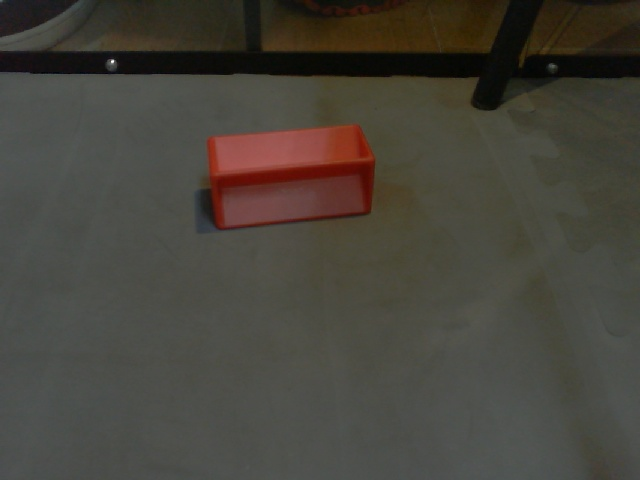RedSample: (203, 122, 375, 232)
